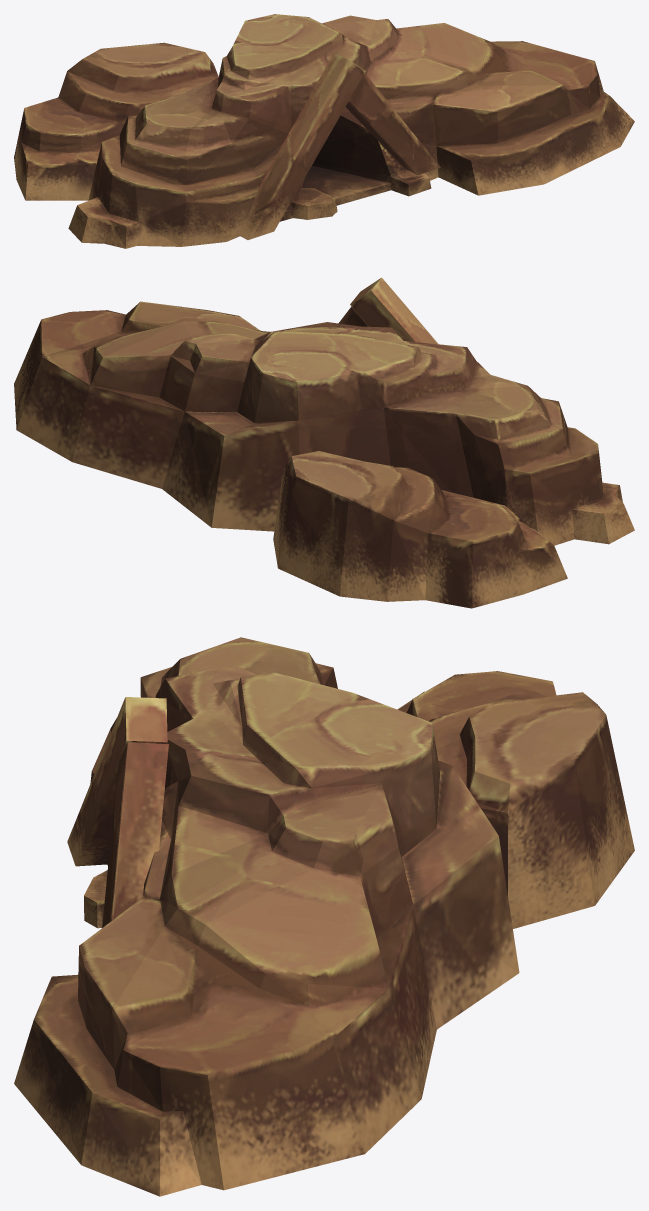
Rendered from shandong04.FBX.
The picture shows the model from 3 angles, top to bottom: view 1: azimuth 30°, elevation 25°; view 2: azimuth 150°, elevation 25°; view 3: azimuth 270°, elevation 25°; orthographic projection. The views are drawn at different scales.
Visible parts, largest first — view 1: shandong04; view 2: shandong04; view 3: shandong04.
Part boxes in pixels (box(x1,y1,x2,y2)): shandong04: box(14, 14, 634, 248); shandong04: box(14, 277, 634, 608); shandong04: box(14, 637, 634, 1196).
Size of the model in its own units: 814 by 205 by 466.
